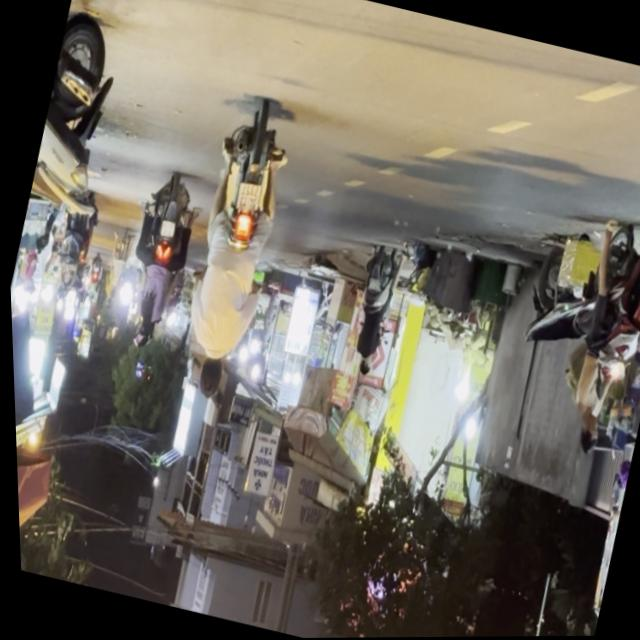licenseplate: (155, 94, 310, 410), (536, 205, 640, 469)
motorcyclist: (190, 354, 225, 402), (568, 407, 601, 457)
nohelmet: (231, 179, 261, 212)
